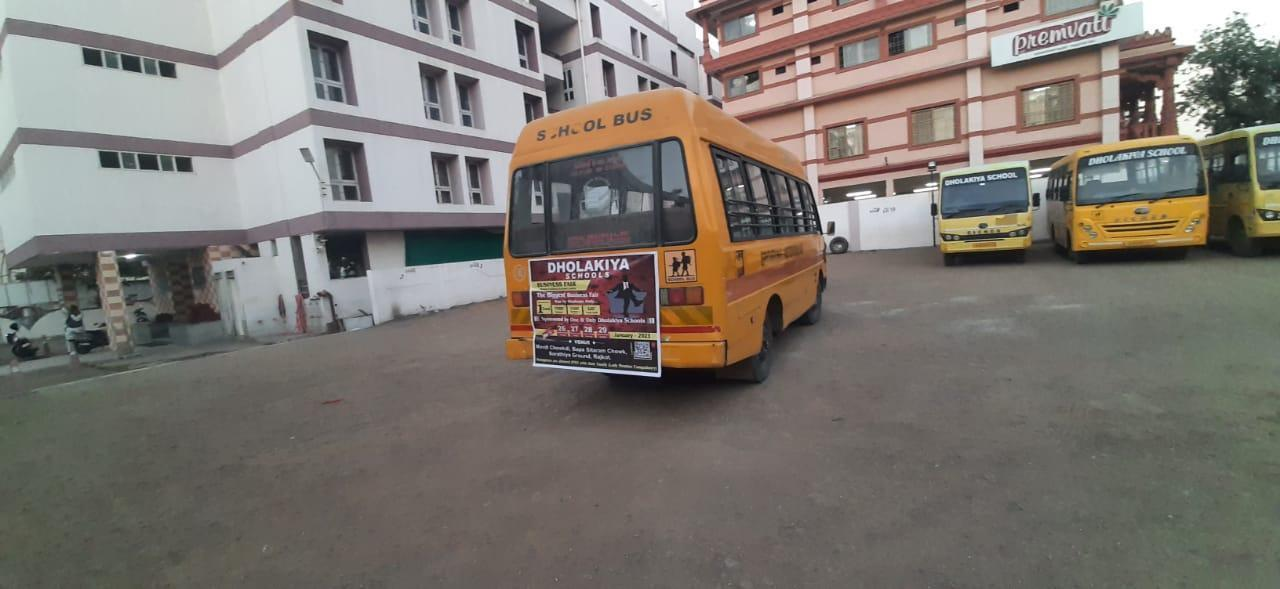Bus: (502, 90, 845, 400), (1048, 140, 1214, 261), (933, 157, 1039, 266), (1224, 119, 1280, 253)
